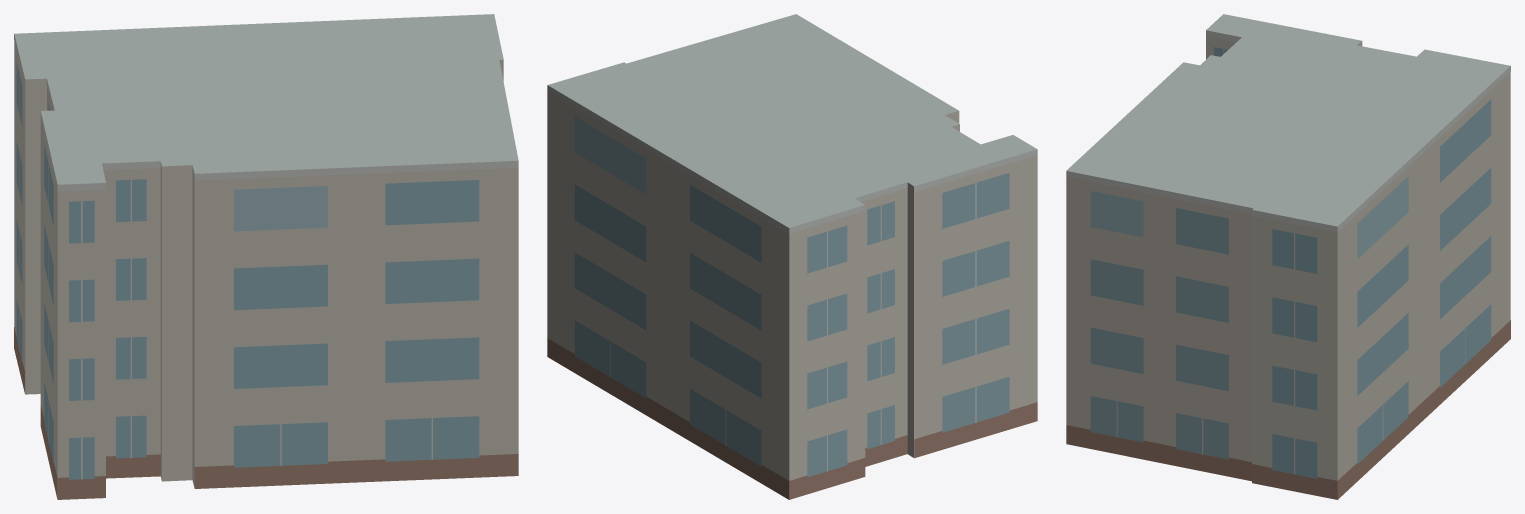
File: survey-upis-32682069.glb
3 views of the same model, side by side, from view 1: azimuth 30°, elevation 25°; view 2: azimuth 150°, elevation 25°; view 3: azimuth 270°, elevation 25° (orthographic). The views are drawn at different scales.
Parts seen in each view (by area): view 1: survey-upis-32682069.tmp; view 2: survey-upis-32682069.tmp; view 3: survey-upis-32682069.tmp.
Part boxes in pixels (x1=…): survey-upis-32682069.tmp: x1=14, y1=14, x2=518, y2=499; survey-upis-32682069.tmp: x1=547, y1=14, x2=1037, y2=499; survey-upis-32682069.tmp: x1=1066, y1=14, x2=1510, y2=499.
Bounding box in the file's own units: 19.03 × 11.4 × 16.82.
